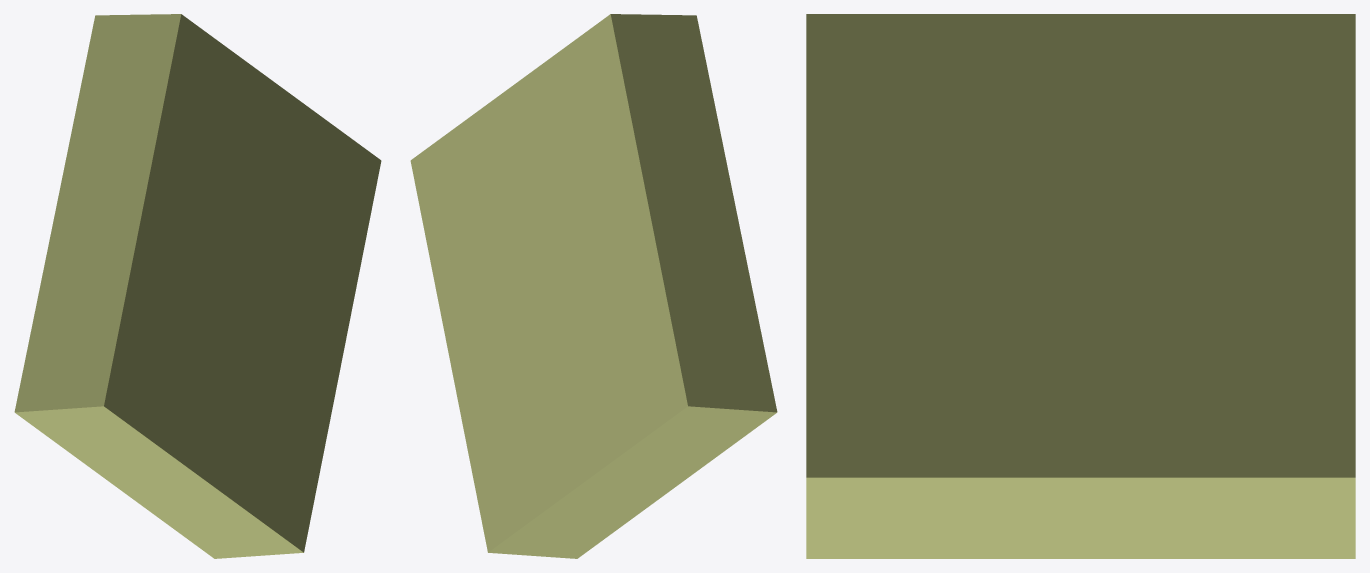
The picture shows the model from 3 angles, left to right: view 1: azimuth 30°, elevation 25°; view 2: azimuth 150°, elevation 25°; view 3: azimuth 270°, elevation 25°; orthographic projection. The views are drawn at different scales.
Parts seen in each view (by area): view 1: 0_1_2_0_3_3_2_1_0_0_2_1; view 2: 0_1_2_0_3_3_2_1_0_0_2_1; view 3: 0_1_2_0_3_3_2_1_0_0_2_1.
Part boxes in pixels (bbox=[...]): 0_1_2_0_3_3_2_1_0_0_2_1: bbox=[14, 14, 381, 558]; 0_1_2_0_3_3_2_1_0_0_2_1: bbox=[410, 14, 777, 558]; 0_1_2_0_3_3_2_1_0_0_2_1: bbox=[806, 14, 1355, 558].
Size of the model in its own units: 2.89 by 6.5 by 6.
